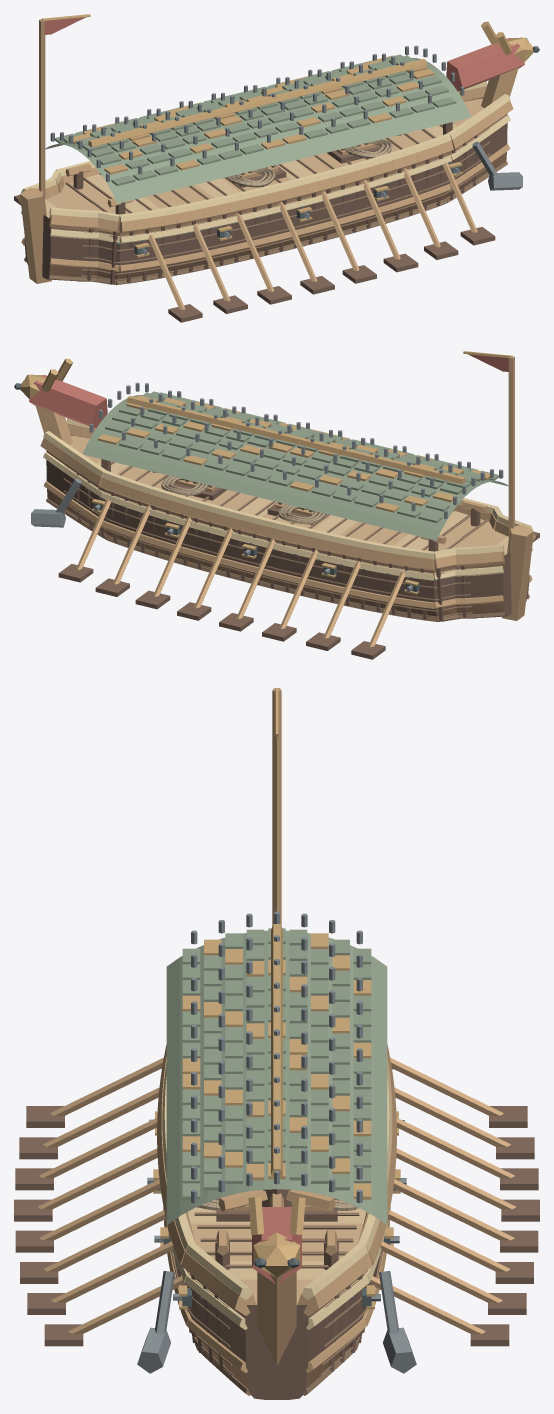
File: geobukseon-v5-mobile.glb
3 renders of one model, top to bottom at view 1: azimuth 30°, elevation 25°; view 2: azimuth 150°, elevation 25°; view 3: azimuth 270°, elevation 25°, orthographic. The views are drawn at different scales.
Visible parts, largest first — view 1: geobukseon_deck_olive, geobukseon_hull_wood, geobukseon_hull_darkwood, geobukseon_hull_pale, geobukseon_deck_bronze, geobukseon_hull_seam, geobukseon_oars_wood, geobukseon_hull_hull, geobukseon_hull_deck, geobukseon_oars_darkwood, geobukseon_deck_iron, geobukseon_deck_red (+7 smaller); view 2: geobukseon_deck_olive, geobukseon_hull_wood, geobukseon_hull_darkwood, geobukseon_hull_pale, geobukseon_deck_bronze, geobukseon_hull_seam, geobukseon_oars_wood, geobukseon_hull_hull, geobukseon_hull_deck, geobukseon_oars_darkwood, geobukseon_deck_iron, geobukseon_deck_red (+7 smaller); view 3: geobukseon_deck_olive, geobukseon_oars_wood, geobukseon_deck_bronze, geobukseon_oars_darkwood, geobukseon_hull_wood, geobukseon_hull_darkwood, geobukseon_deck_iron, geobukseon_hull_pale, geobukseon_fittings_iron, geobukseon_hull_seam, geobukseon_hull_deck, geobukseon_fittings_wood (+6 smaller).
Part boxes in pixels (<box>): geobukseon_deck_olive: <box>45,54,471,203</box>; geobukseon_hull_wood: <box>18,67,518,283</box>; geobukseon_hull_darkwood: <box>24,123,507,284</box>; geobukseon_hull_pale: <box>21,81,510,243</box>; geobukseon_deck_bronze: <box>68,21,533,174</box>; geobukseon_hull_seam: <box>24,124,507,284</box>; geobukseon_oars_wood: <box>148,162,477,310</box>; geobukseon_hull_hull: <box>49,98,507,281</box>; geobukseon_hull_deck: <box>46,98,483,213</box>; geobukseon_oars_darkwood: <box>14,195,495,322</box>; geobukseon_deck_iron: <box>50,45,464,181</box>; geobukseon_deck_red: <box>446,38,524,91</box>; geobukseon_deck_olive: <box>82,391,508,540</box>; geobukseon_hull_wood: <box>35,404,535,620</box>; geobukseon_hull_darkwood: <box>46,460,529,621</box>; geobukseon_hull_pale: <box>43,418,532,580</box>; geobukseon_deck_bronze: <box>20,358,489,512</box>; geobukseon_hull_seam: <box>46,461,529,621</box>; geobukseon_oars_wood: <box>76,499,405,647</box>; geobukseon_hull_hull: <box>46,435,504,618</box>; geobukseon_hull_deck: <box>70,435,507,550</box>; geobukseon_oars_darkwood: <box>58,532,539,659</box>; geobukseon_deck_iron: <box>89,382,503,518</box>; geobukseon_deck_red: <box>29,375,107,428</box>; geobukseon_deck_olive: <box>166,928,387,1224</box>; geobukseon_oars_wood: <box>38,1058,515,1333</box>; geobukseon_deck_bronze: <box>182,924,371,1277</box>; geobukseon_oars_darkwood: <box>14,1106,539,1346</box>; geobukseon_hull_wood: <box>157,1044,396,1372</box>; geobukseon_hull_darkwood: <box>174,1255,379,1399</box>; geobukseon_deck_iron: <box>191,911,362,1203</box>; geobukseon_hull_pale: <box>162,1062,391,1329</box>; geobukseon_fittings_iron: <box>137,1271,416,1373</box>; geobukseon_hull_seam: <box>171,1199,382,1395</box>; geobukseon_hull_deck: <box>190,1223,363,1304</box>; geobukseon_fittings_wood: <box>216,1190,337,1255</box>.
Size of the model in its own units: 44.71 by 22 by 26.68.
